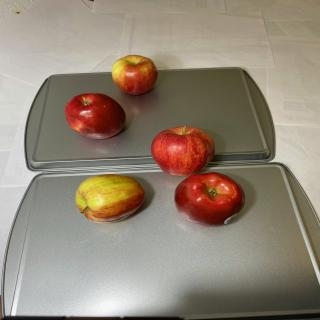Apple: (174, 172, 246, 227), (75, 174, 145, 223), (151, 126, 215, 176), (64, 93, 126, 139), (111, 54, 158, 96)
